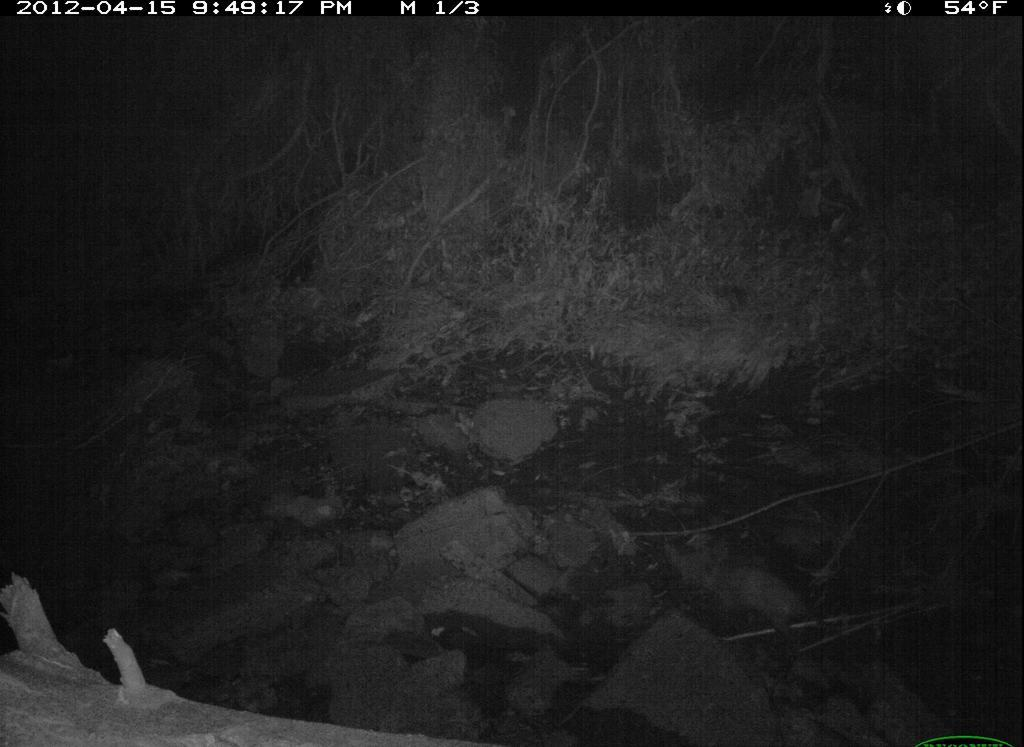opossum: (688, 547, 852, 655)
